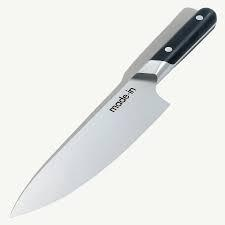Knife: (9, 6, 217, 218)
